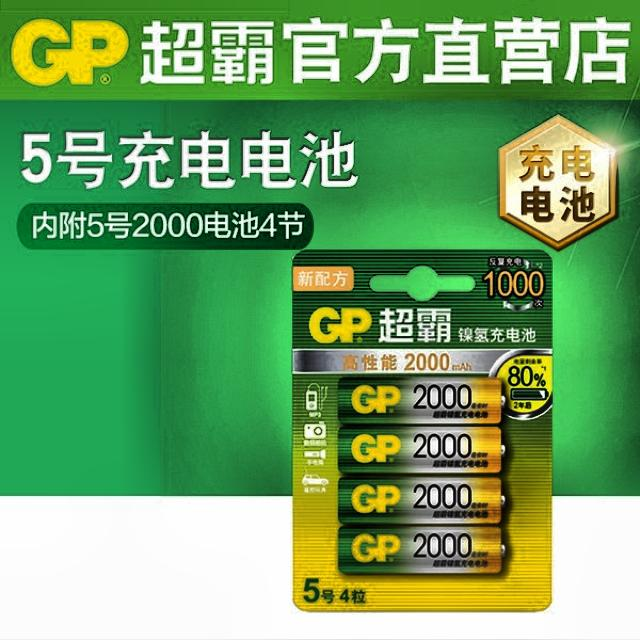Non-Valuable Waste - Batteries: (339, 476, 505, 525), (339, 526, 506, 574), (339, 426, 504, 473), (339, 378, 501, 424)
